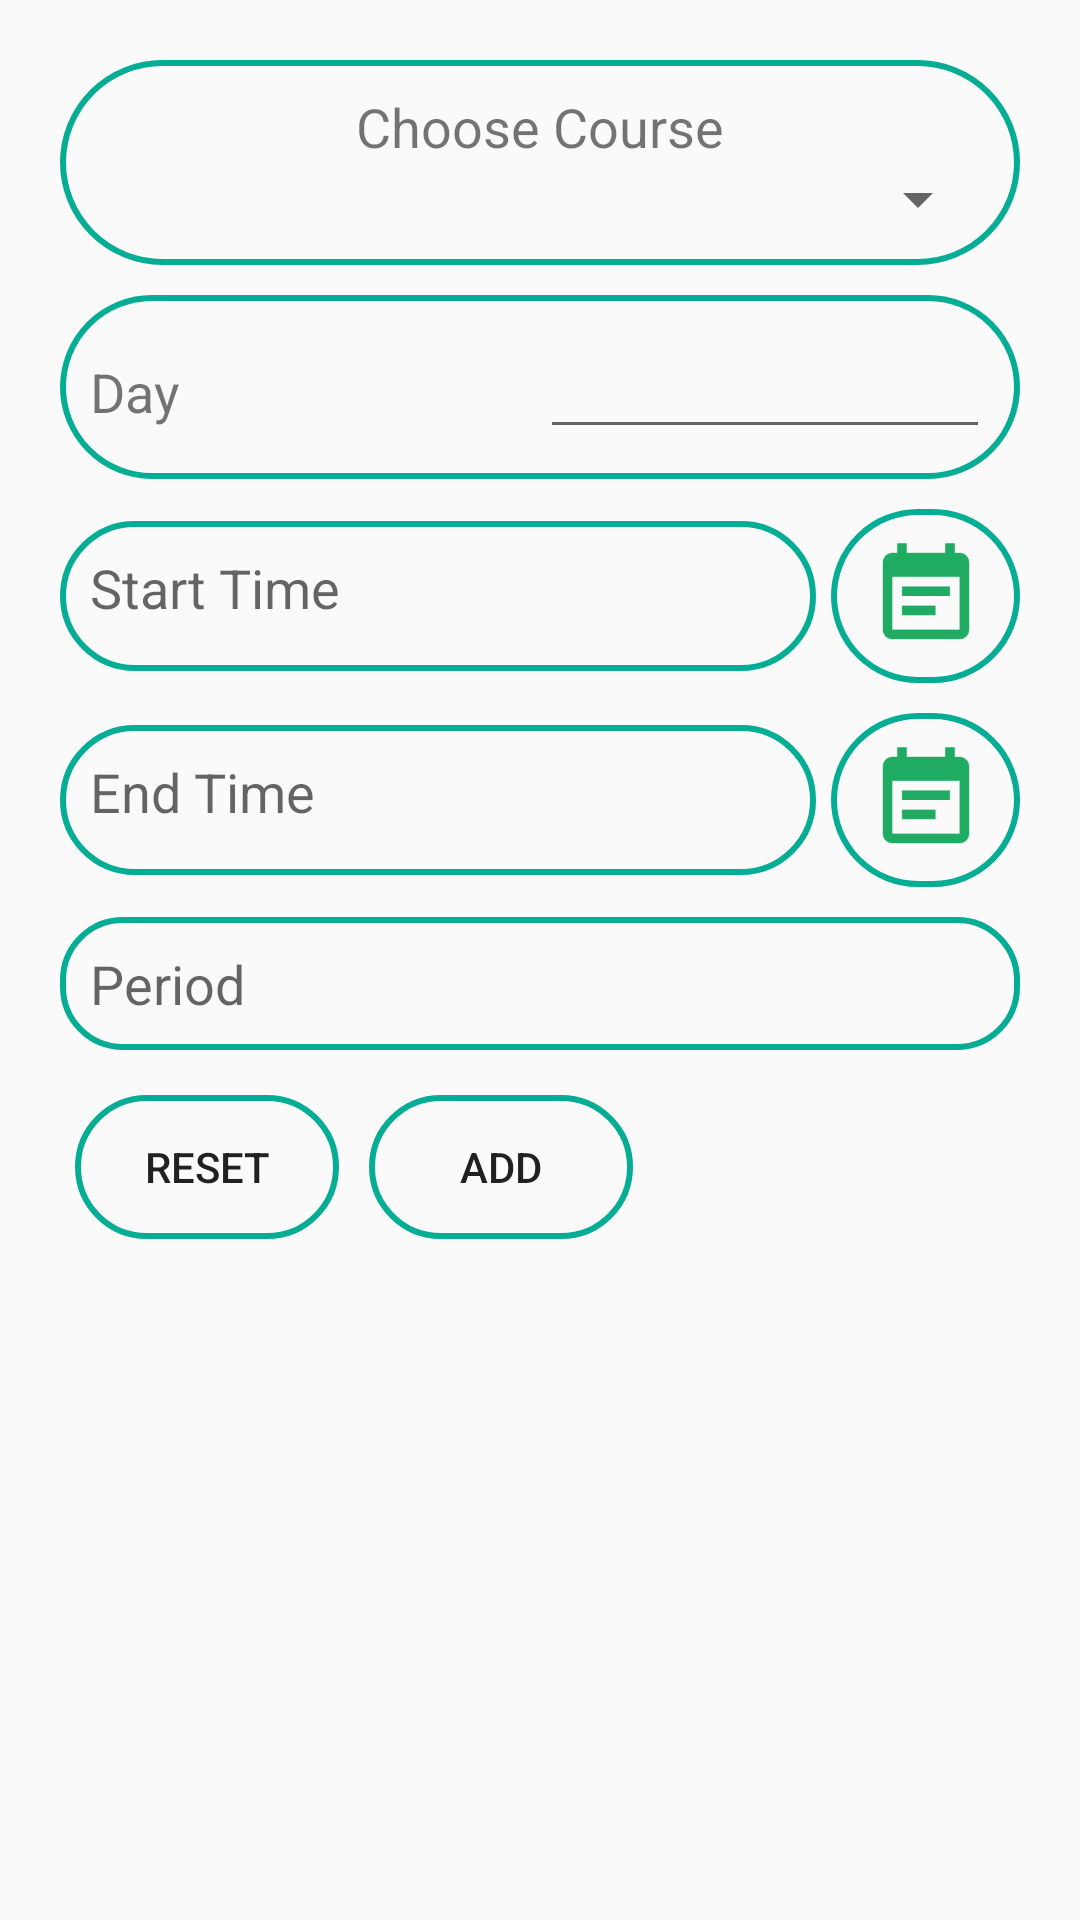

Screen size 1080x1920. Icon name, then its center in pixels as (x=x, y=y):
datepicker: (x=925, y=596), (x=925, y=800)
